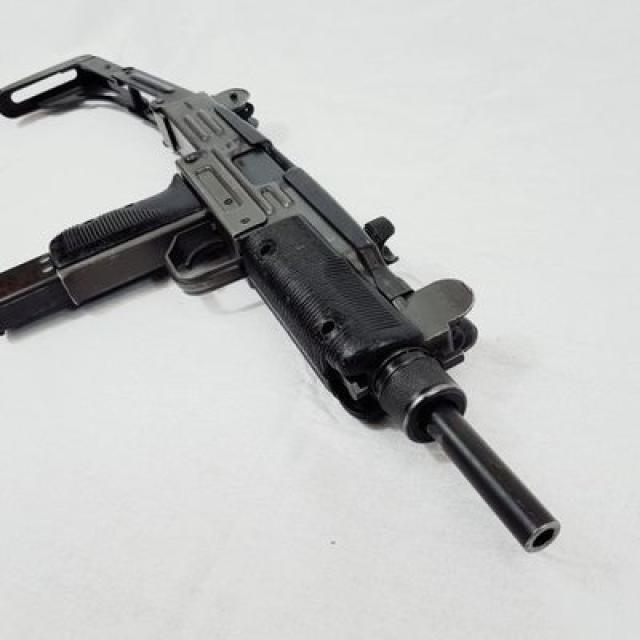SMG: (0, 54, 560, 552)
